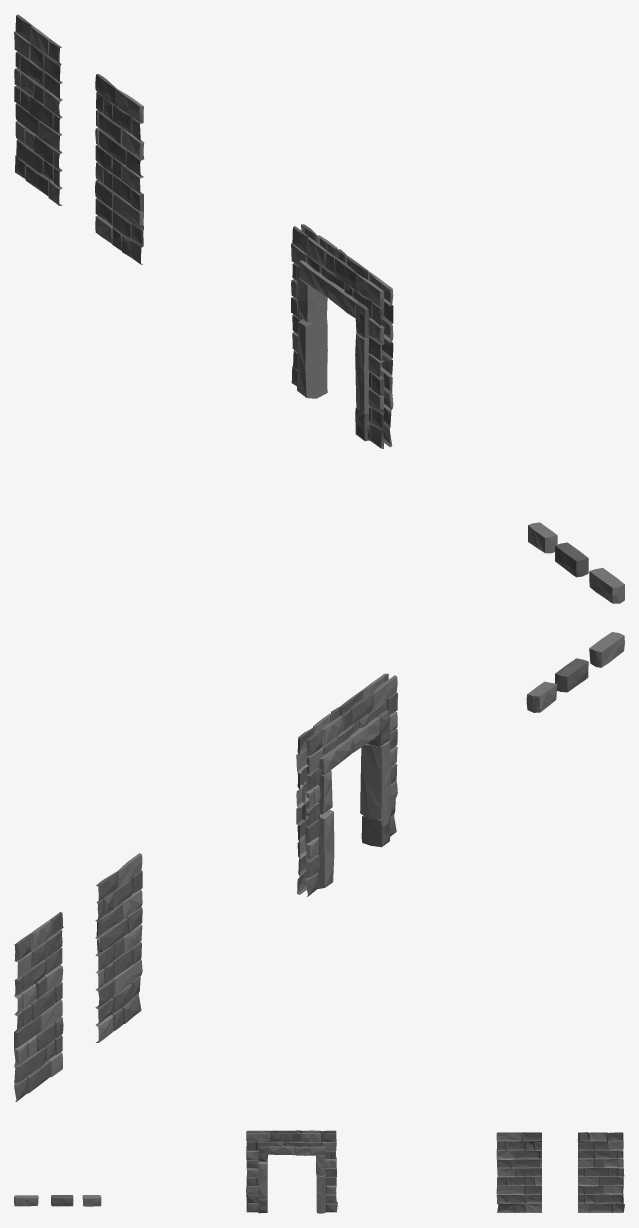
The model's file is mediasypuerta.FBX.
3 renders of one model, top to bottom at view 1: azimuth 30°, elevation 25°; view 2: azimuth 150°, elevation 25°; view 3: azimuth 270°, elevation 25°, orthographic. The views are drawn at different scales.
Visible parts, largest first — view 1: doordoor, Object080, Object079, brick3, brick2; view 2: doordoor, Object079, Object080, brick3, brick2, brick1; view 3: doordoor, Object079, Object080, brick3, brick2, brick1.
Part boxes in pixels (left/top/right/bottom): doordoor: left=291, top=224, right=393, bottom=448; Object080: left=95, top=74, right=144, bottom=264; Object079: left=14, top=14, right=62, bottom=205; brick3: left=589, top=568, right=624, bottom=603; brick2: left=555, top=542, right=588, bottom=577; doordoor: left=296, top=673, right=397, bottom=896; Object079: left=14, top=912, right=63, bottom=1101; Object080: left=95, top=853, right=142, bottom=1042; brick3: left=589, top=632, right=624, bottom=667; brick2: left=555, top=658, right=588, bottom=692; brick1: left=526, top=681, right=557, bottom=712; doordoor: left=246, top=1130, right=337, bottom=1213; Object079: left=577, top=1132, right=624, bottom=1212; Object080: left=496, top=1132, right=541, bottom=1212; brick3: left=14, top=1195, right=38, bottom=1206; brick2: left=51, top=1195, right=73, bottom=1206; brick1: left=82, top=1195, right=101, bottom=1206.
Size of the model in its own units: 1.4 by 8.53 by 58.7.
Materials: 1 (1 with a texture image).
